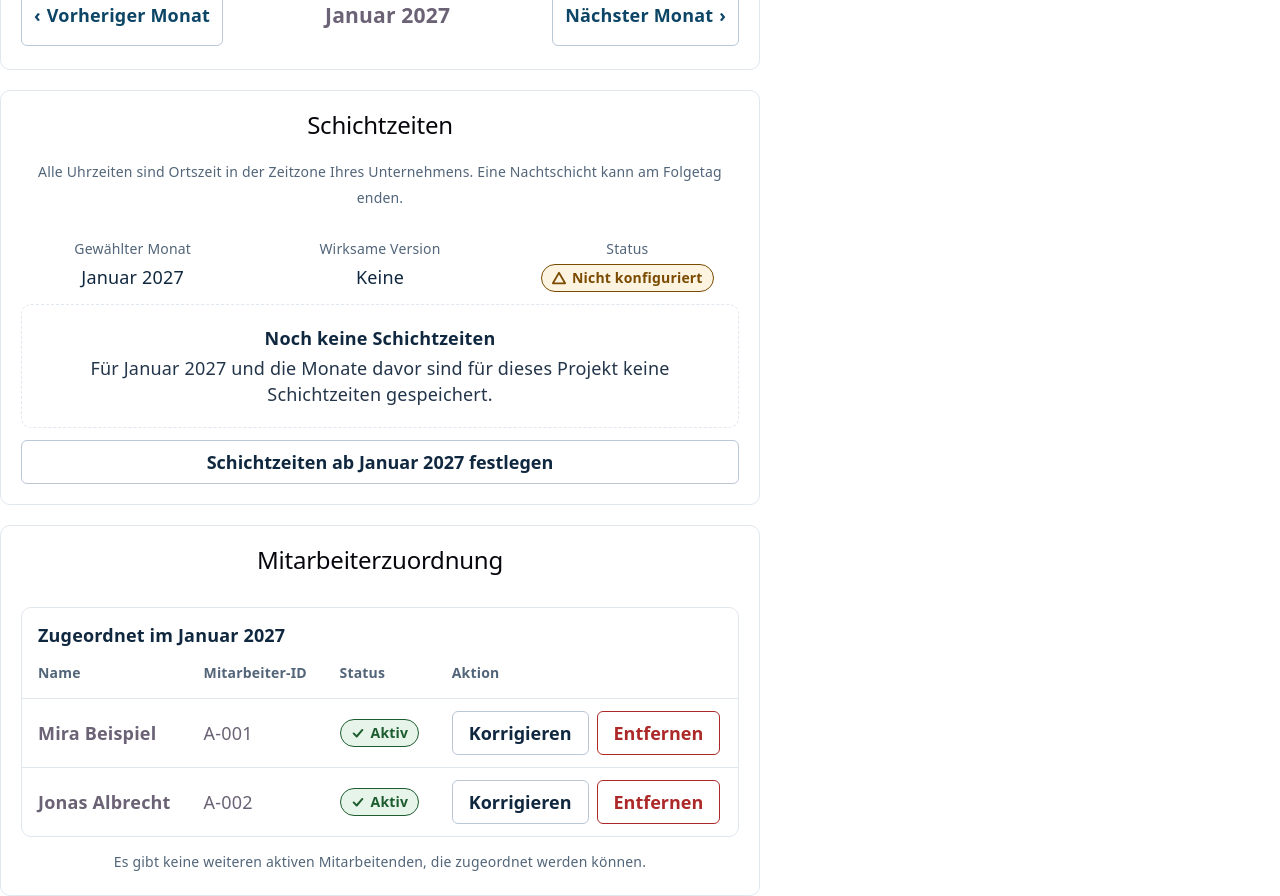
Test: #73 — refusals: explained, reloaded, never retried › 404 already removed: own message, the month is read again, exactly one DELETE and no retry button
The width and height of the screenshot is (1280, 896).
(page scrolled)
Click the button with aria-label "Zuordnung von Mira Beispiel entfernen". click: (658,733)
box: [596,711,720,755]
(page scrolled)
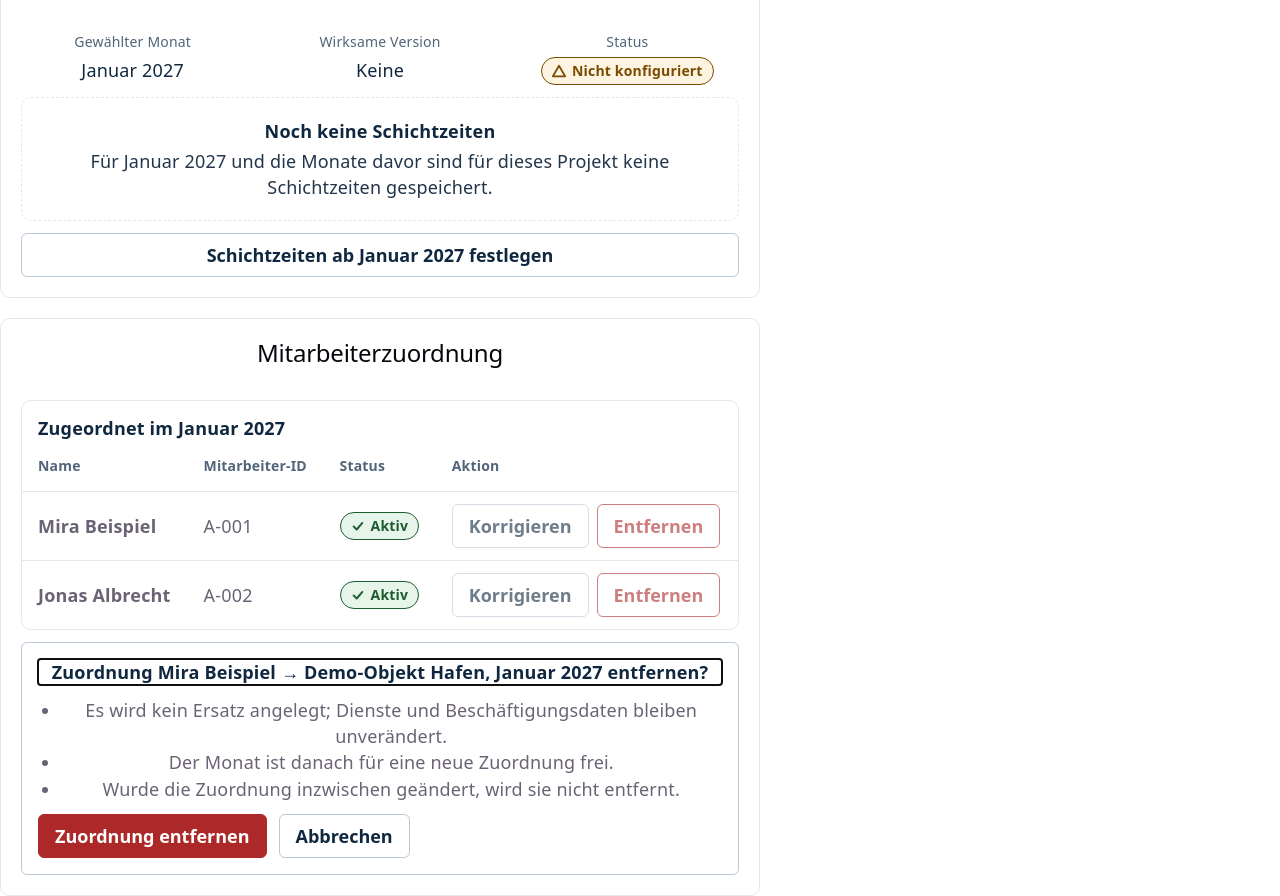
Click the button "Zuordnung entfernen". click: (152,836)
box: [38,814,266,858]
(page scrolled)
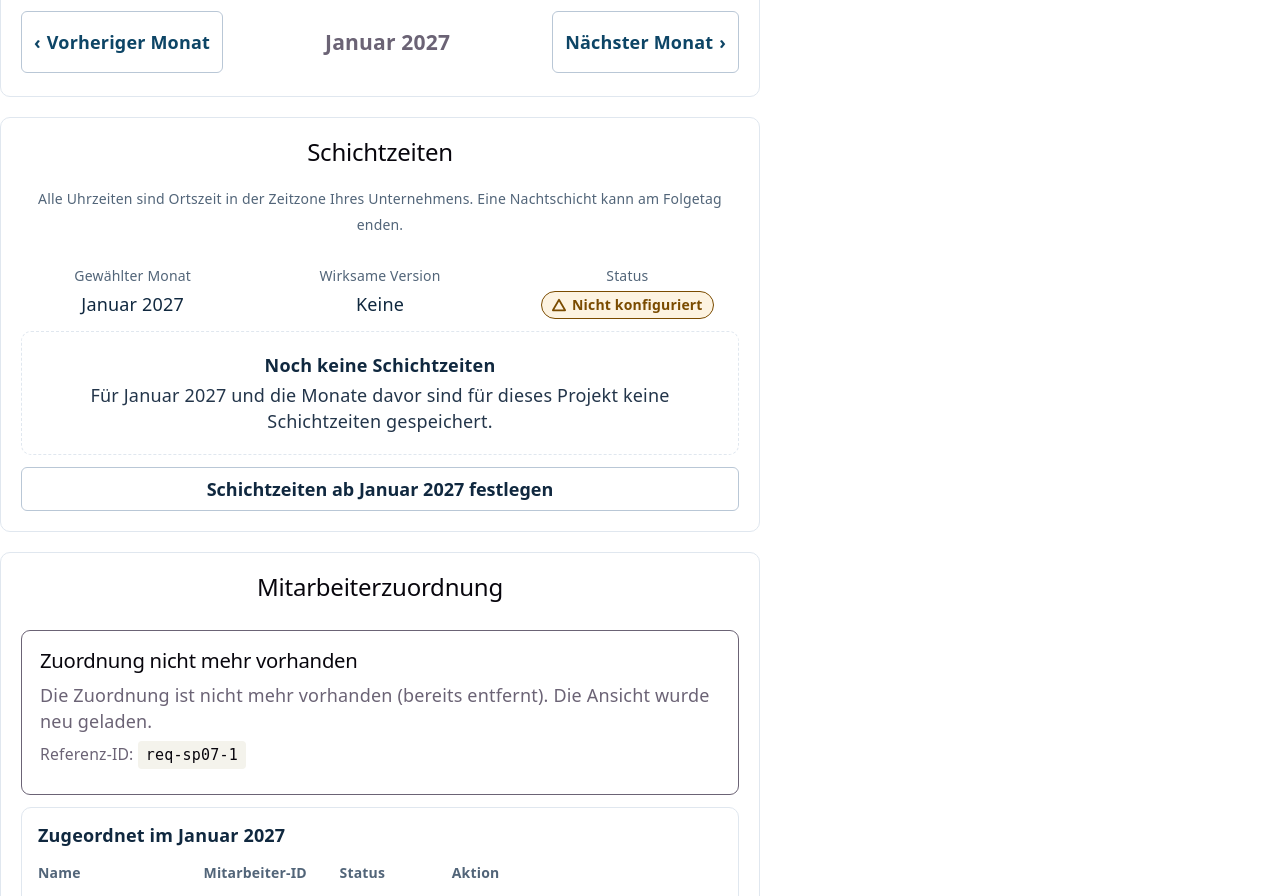
Now the message shows "Zuordnung nicht mehr vorhanden", box [40,646,358,674]
Now the message shows "bereits entfernt", box [40,683,710,733]
